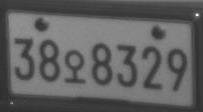2: (141, 45, 162, 90)
3: (12, 37, 35, 81), (116, 43, 138, 87)
8: (38, 38, 60, 83), (90, 42, 113, 85)
9: (165, 48, 188, 92)
오: (62, 49, 87, 84)
